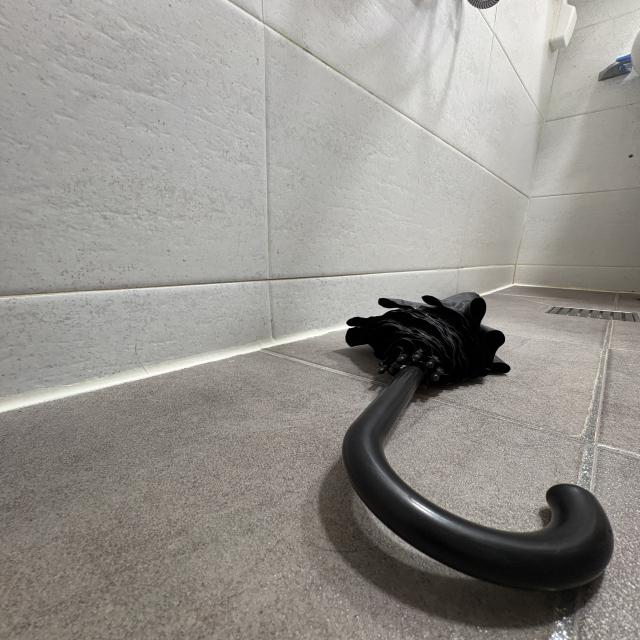umbrella: (343, 289, 615, 594)
